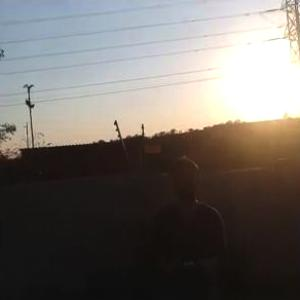follow: (146, 152, 235, 299)
